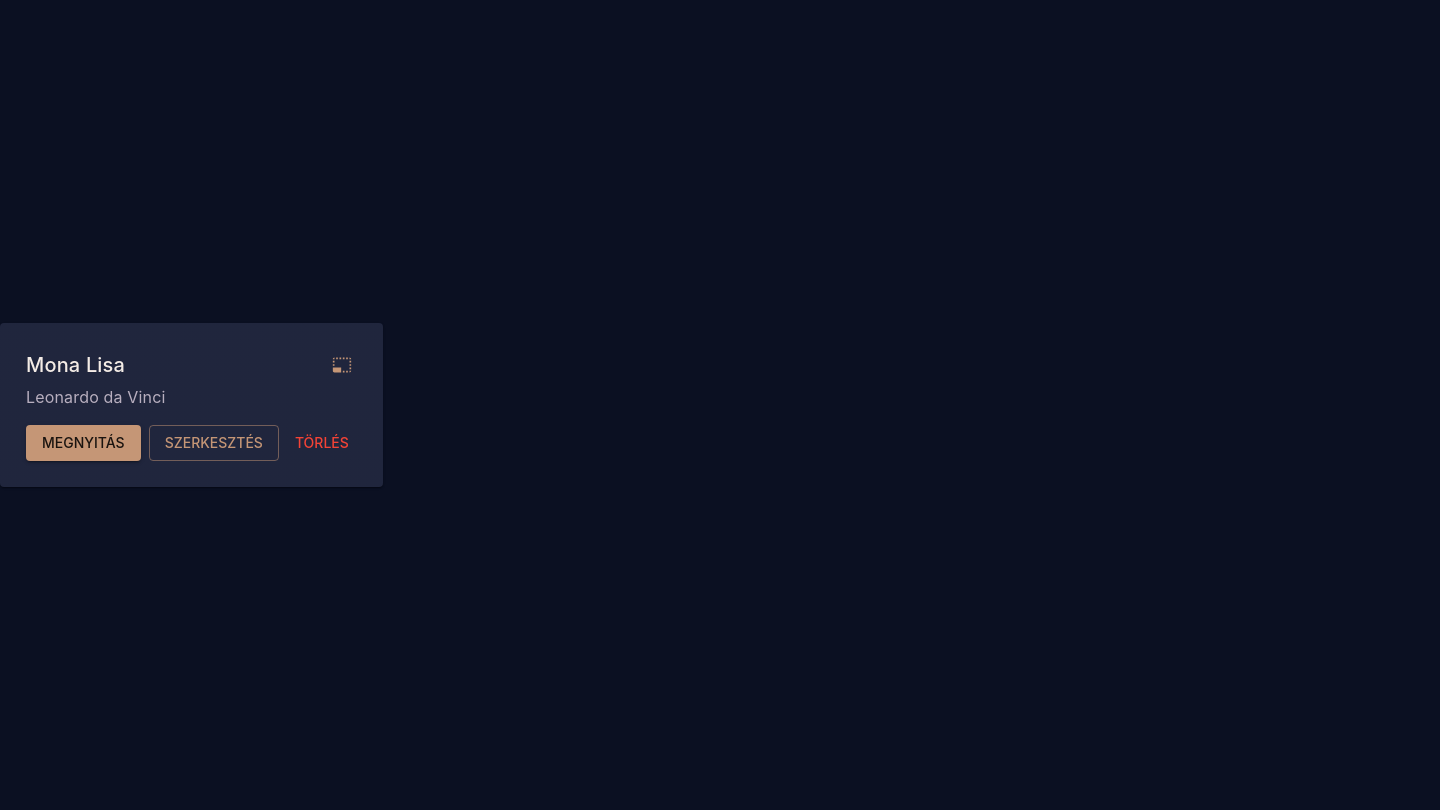
Test: AdminTopicItemCard UI › closes the dialog without deleting when the user cancels
Click the button "Törlés": coordinates (322, 443) [287,425,357,461]
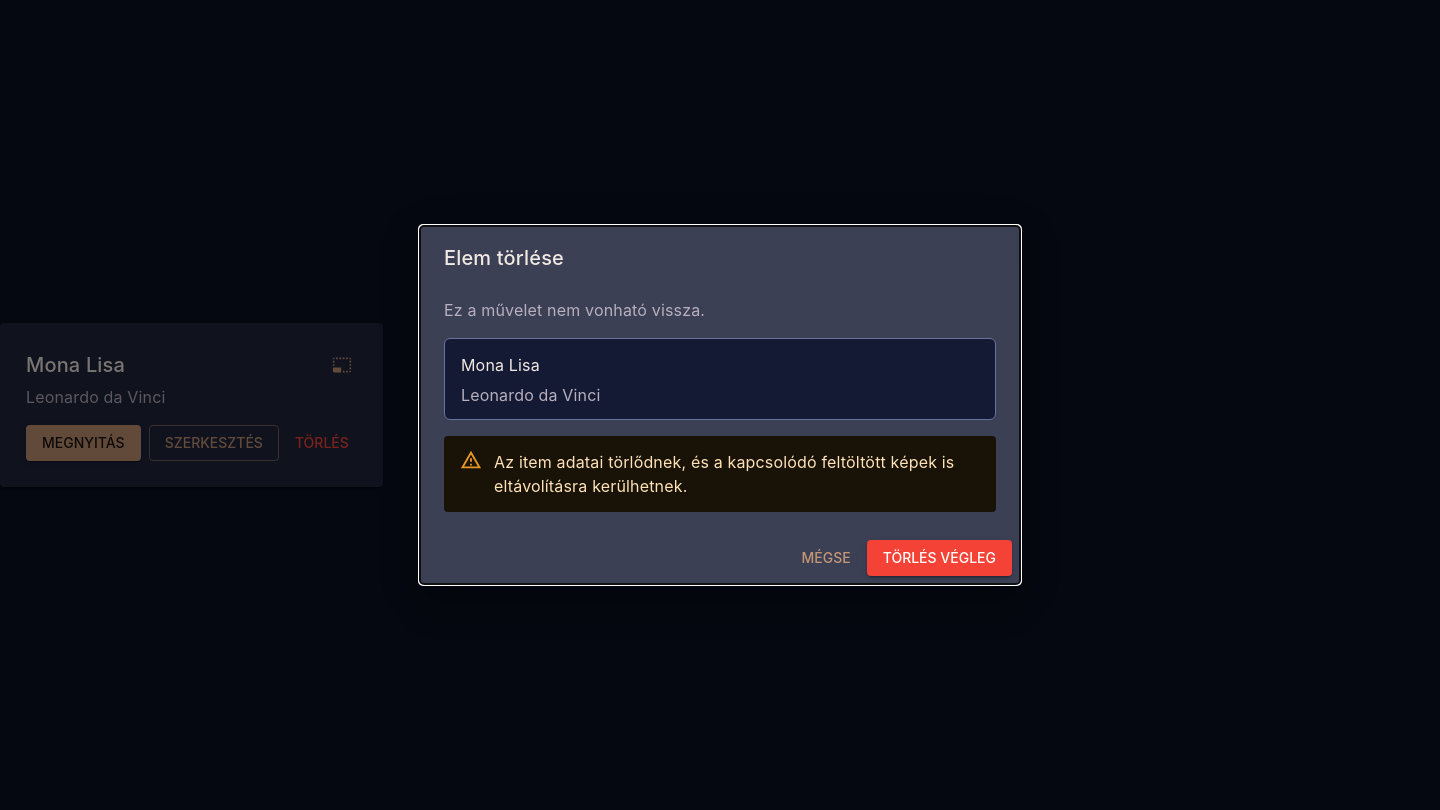
Click the button "Mégse": coordinates (826, 558) [794,540,859,576]
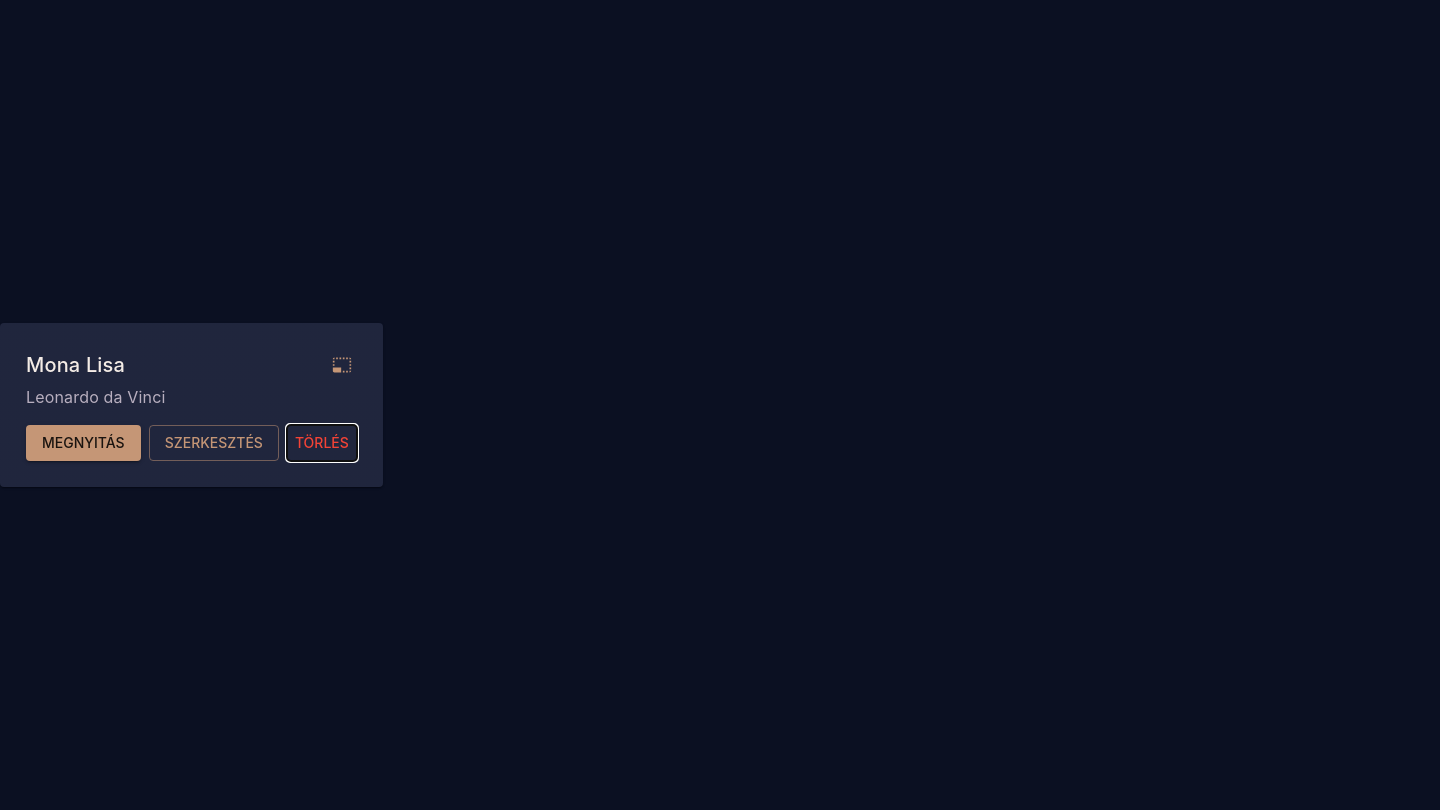
Result: the dialog is gone
